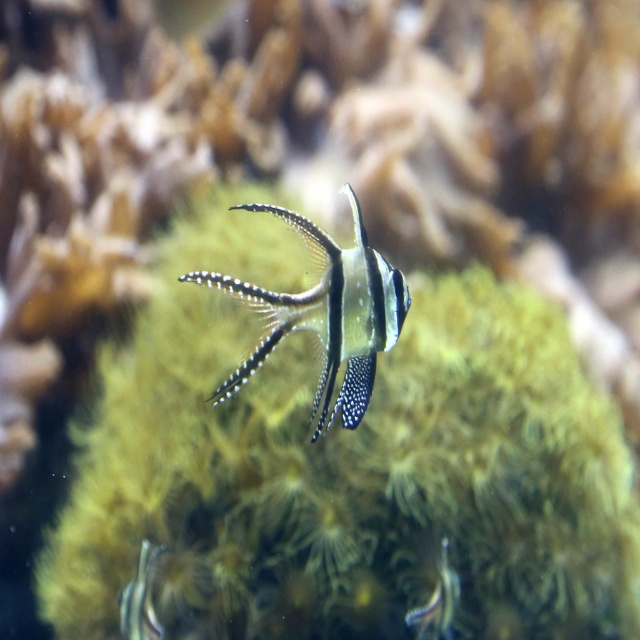Fish: (196, 168, 403, 444), (404, 541, 465, 639), (115, 546, 168, 639)
